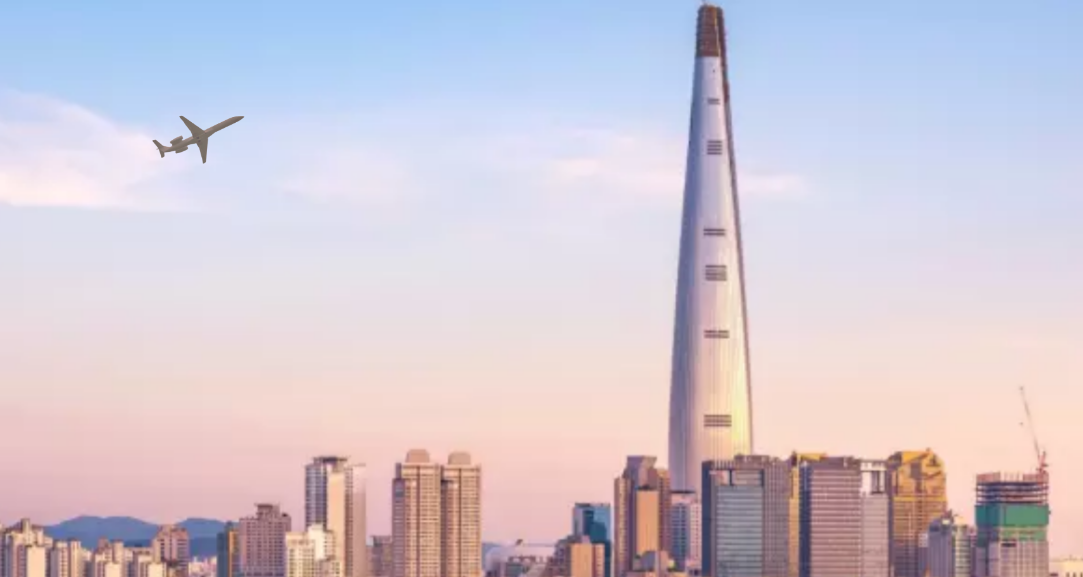military drone: (152, 115, 244, 163)
